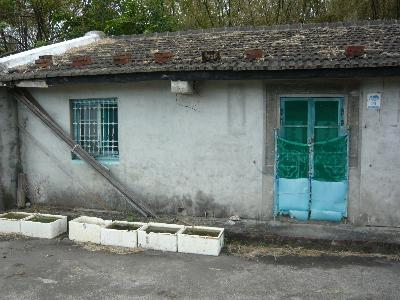styrofoam: (178, 225, 227, 257), (137, 221, 182, 253), (68, 214, 112, 246), (101, 219, 147, 248), (20, 213, 68, 238), (1, 210, 35, 235)
